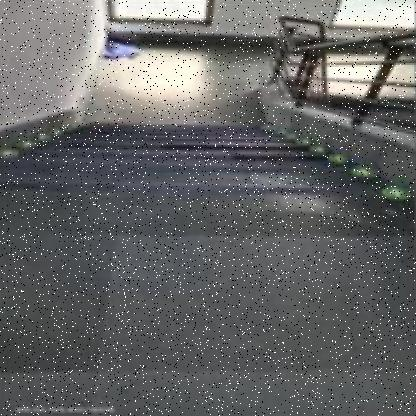stair_down: (28, 123, 304, 237)
